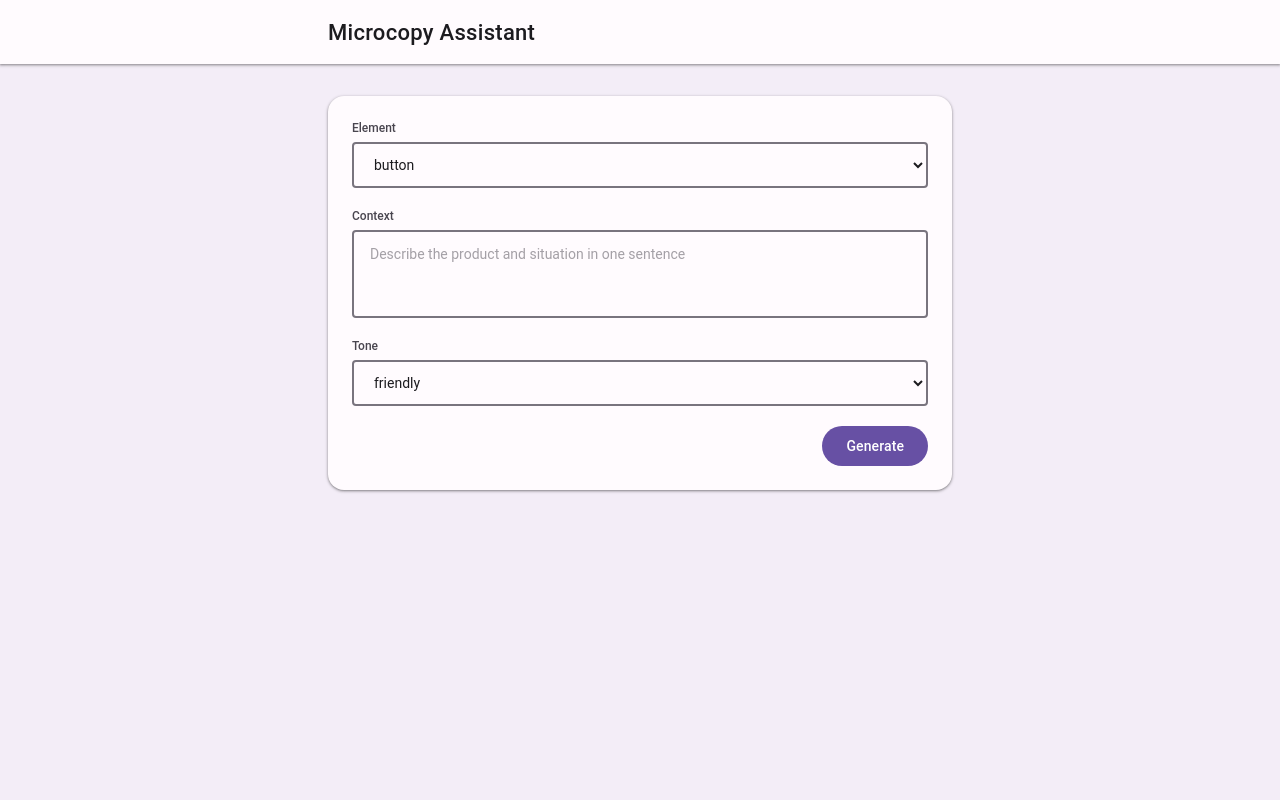
Scenario: shows error banner when client fails
Type "a budgeting app" into the text box labelled "Context" at (640, 274), box [352,230,928,318]
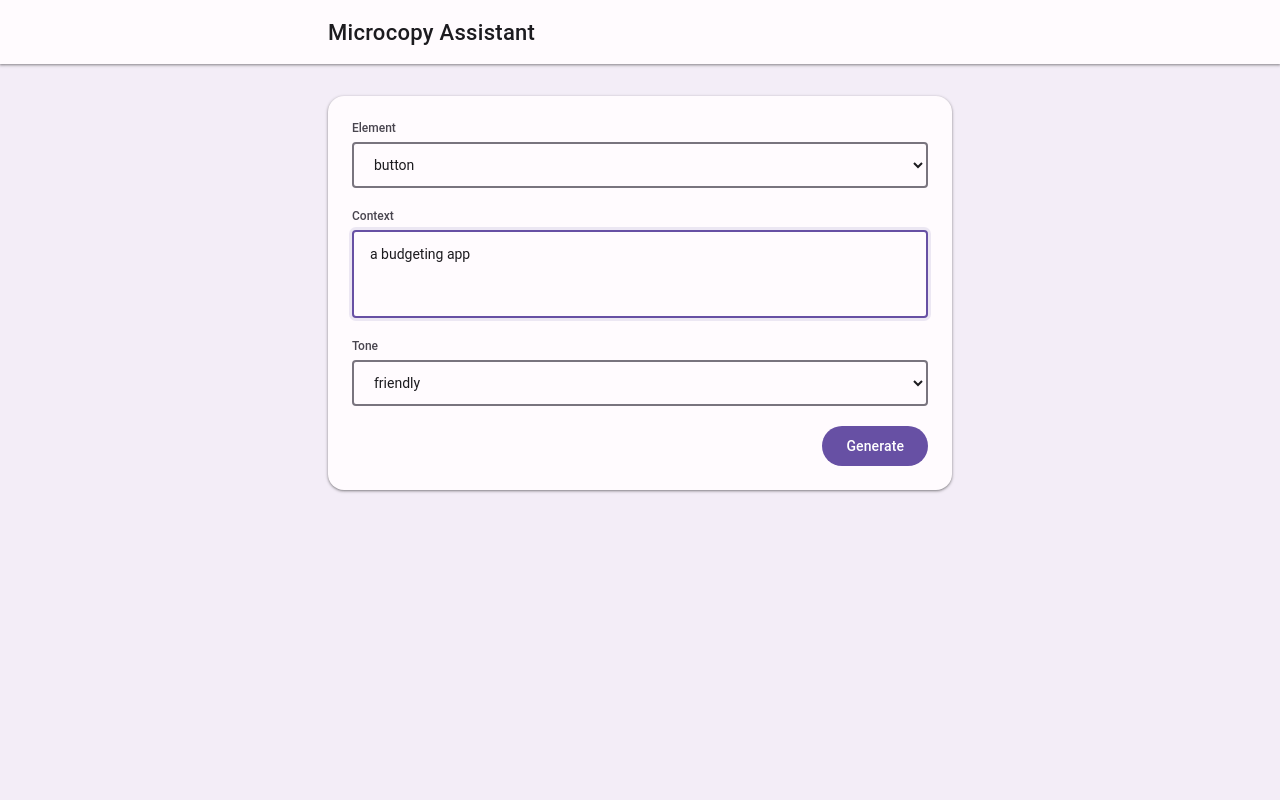
Click the button "Generate" at (875, 446), box [822,426,928,466]
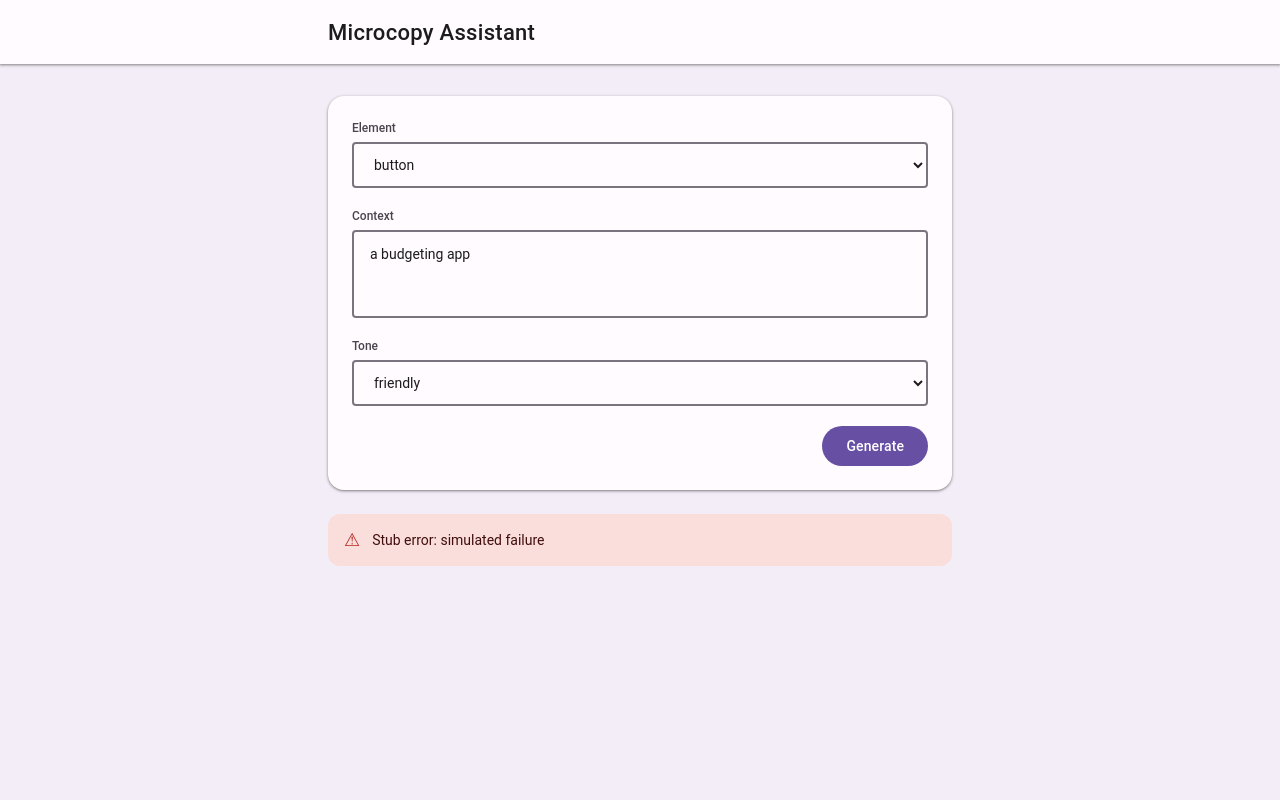
Now the message "⚠ Stub error: simulated failure" is shown, box [328,514,952,566]
